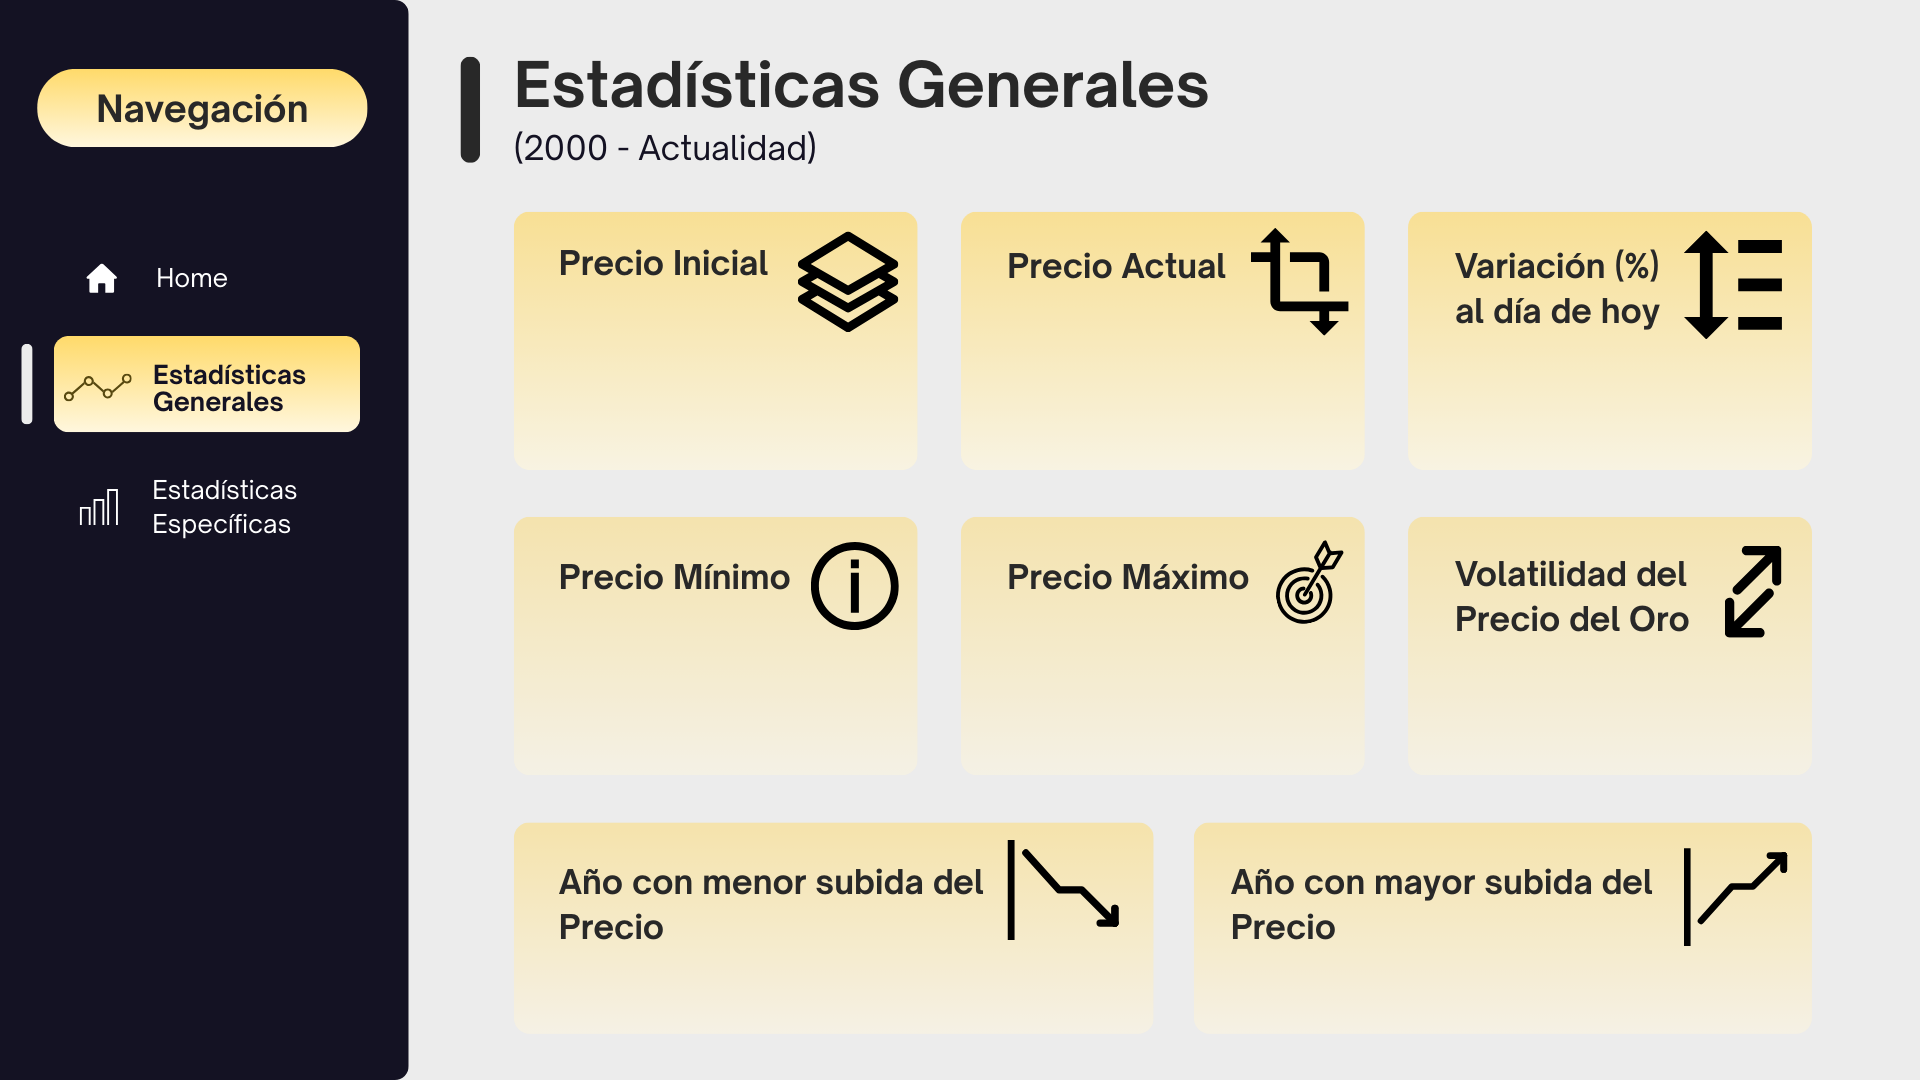

This screenshot's page, from the dashboard's own definition file:
{"tool":"powerbi","page":{"name":"Estadísticas Generales","canvas":[1280,720],"ordinal":1},"visuals":[{"type":"cardVisual","fields":{"Data":["Oro_historico_2000.Precio Inicial"]},"box":[323.9,197.2,290.1,129.6],"z":0},{"type":"cardVisual","fields":{"Data":["Oro_historico_2000.Precio Actual"]},"box":[614.1,187.3,300,149.3],"z":1000},{"type":"cardVisual","fields":{"Data":["Oro_historico_2000.Variacion_Total_%"]},"box":[971.8,225.4,233.8,73.2],"z":2000},{"type":"cardVisual","fields":{"Data":["Oro_historico_2000.Precio_Minimo_Oro"]},"box":[314.1,394.9,300,129.5],"z":3000},{"type":"cardVisual","fields":{"Data":["Oro_historico_2000.Precio_Maximo_Oro"]},"box":[614.1,396.2,300,129.5],"z":4000},{"type":"cardVisual","fields":{"Data":["Oro_historico_2000.Volatilidad_Historica"]},"box":[965.4,391,239.7,138.5],"z":5000},{"type":"cardVisual","fields":{"Data":["Oro_historico_2000.Año_Menor_Subida_Oro"]},"box":[532.1,607.7,232.1,91],"z":6000},{"type":"cardVisual","fields":{"Data":["Oro_historico_2000.Año_Mayor_Subida_Oro"]},"box":[957.7,607.7,247.4,85.9],"z":7000},{"type":"actionButton","box":[37.1,308.6,185.7,57.1],"z":8000},{"type":"actionButton","box":[37.1,167.1,151.4,40],"z":9000}]}

Visuals, with their boxes on the page's 1280x720 design canvas (x1, y1, x2, y2). These are canvas units, not pixel positions in the 1920x1080 screenshot, which may show the page scaled, cropped or inside an application window:
cardVisual - Oro_historico_2000.Precio Inicial: crop(324, 197, 614, 327)
cardVisual - Oro_historico_2000.Precio Actual: crop(614, 187, 914, 337)
cardVisual - Oro_historico_2000.Variacion_Total_%: crop(972, 225, 1206, 299)
cardVisual - Oro_historico_2000.Precio_Minimo_Oro: crop(314, 395, 614, 524)
cardVisual - Oro_historico_2000.Precio_Maximo_Oro: crop(614, 396, 914, 526)
cardVisual - Oro_historico_2000.Volatilidad_Historica: crop(965, 391, 1205, 530)
cardVisual - Oro_historico_2000.Año_Menor_Subida_Oro: crop(532, 608, 764, 699)
cardVisual - Oro_historico_2000.Año_Mayor_Subida_Oro: crop(958, 608, 1205, 694)
actionButton: crop(37, 309, 223, 366)
actionButton: crop(37, 167, 188, 207)
